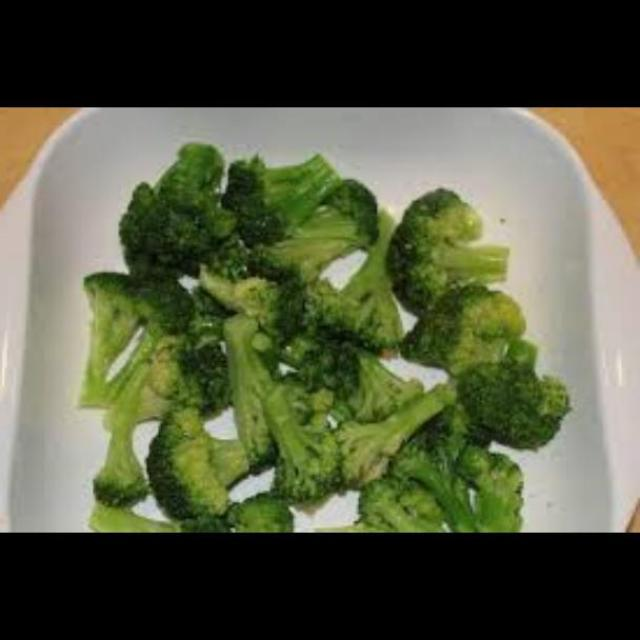Broccoli: (81, 148, 584, 532)
